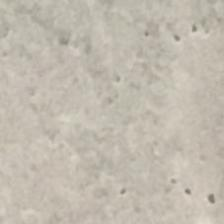Non_Crack: (9, 8, 224, 224)
